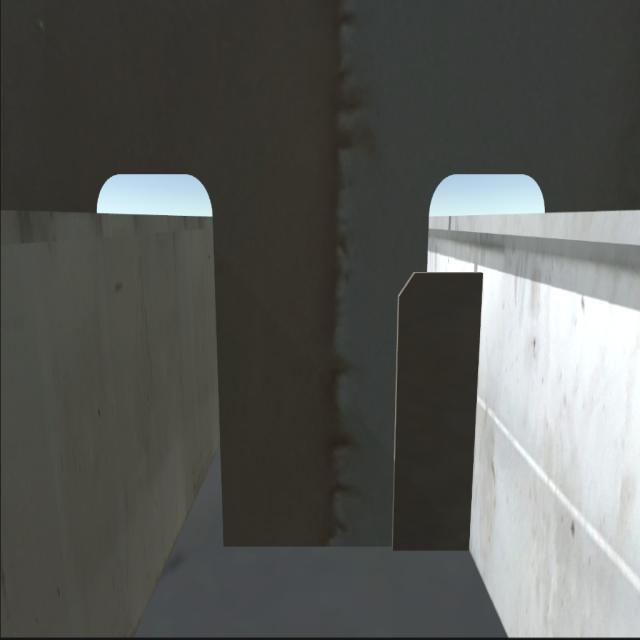fillet_yong_jeop_jang: (221, 536, 474, 559)
longi_yong_jeop_jang: (466, 262, 480, 560)
plate_CP03: (393, 270, 473, 558)
